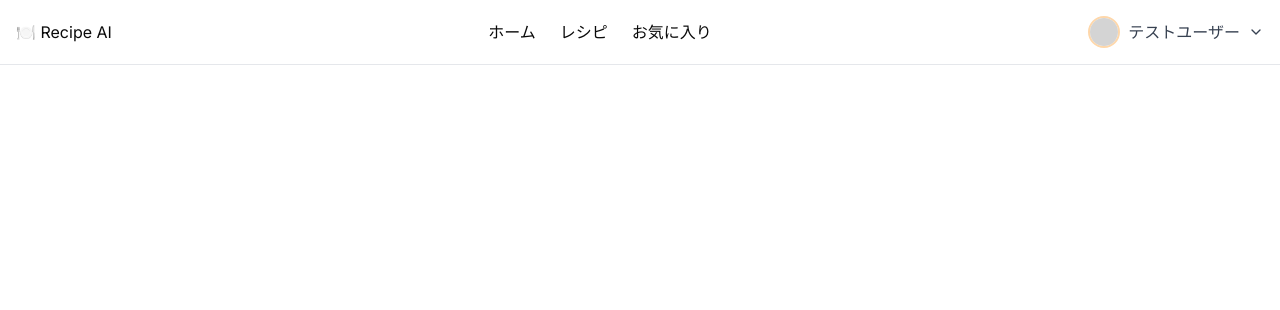
Header › ユーザーメニューの開閉
//  メニューを開く
Click the button "テストユーザー" at point(1176, 32), box top-left (1088, 16), bottom-right (1264, 48)
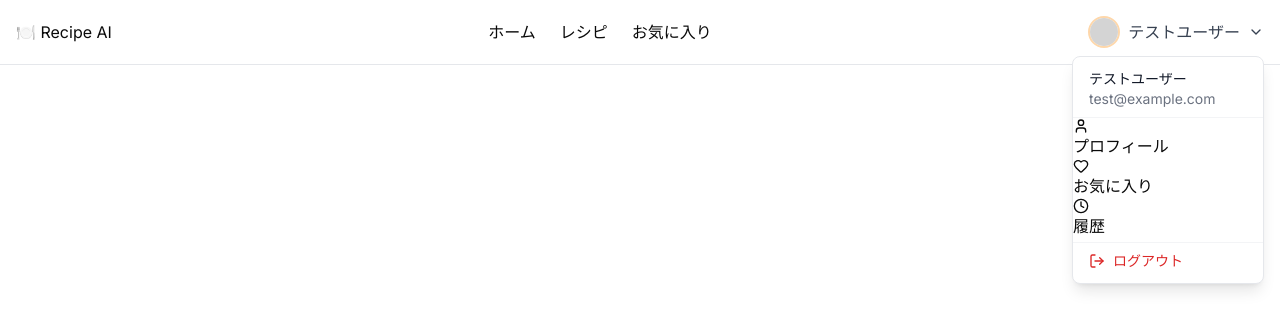
Check: the text "プロフィール" is shown, box top-left (1073, 136), bottom-right (1169, 156)
Check: the text "ログアウト" is shown, box top-left (1113, 251), bottom-right (1183, 271)
